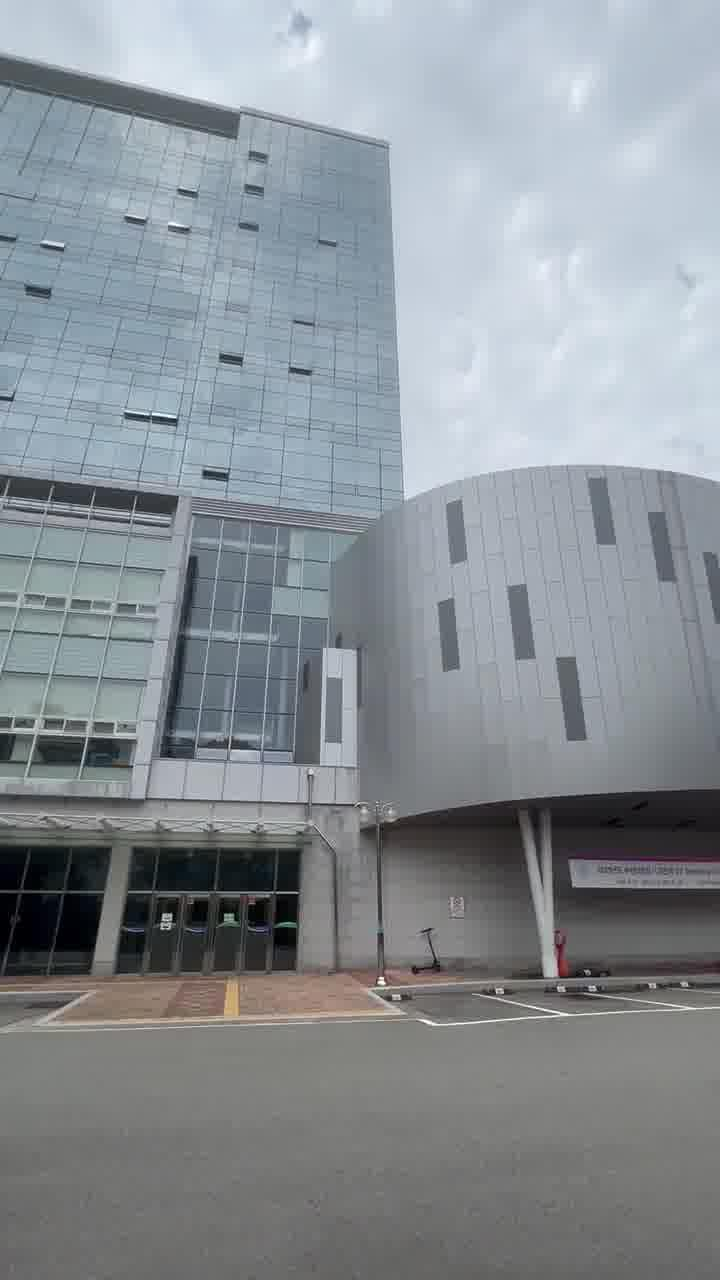building: (352, 448, 720, 960)
